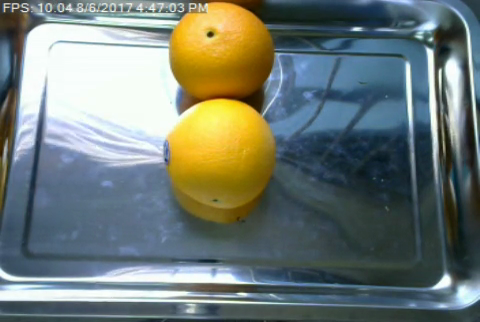Orange: (162, 96, 277, 208), (168, 2, 276, 104)
